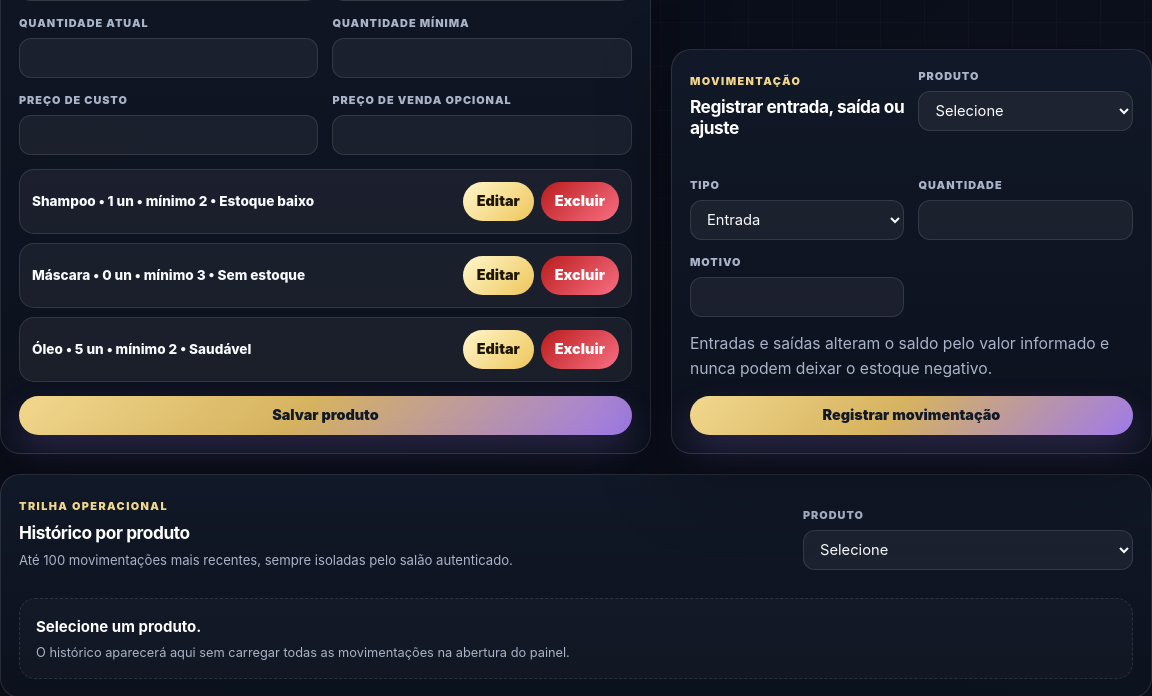
Test case: InventoryOperations › carrega histórico completo somente quando um produto é selecionado
(page scrolled)
Step 1. Select "Shampoo" in the dropdown labelled "Produto" in the row of "Histórico por produto" → (968, 550), box x1=803 y1=530 x2=1133 y2=570
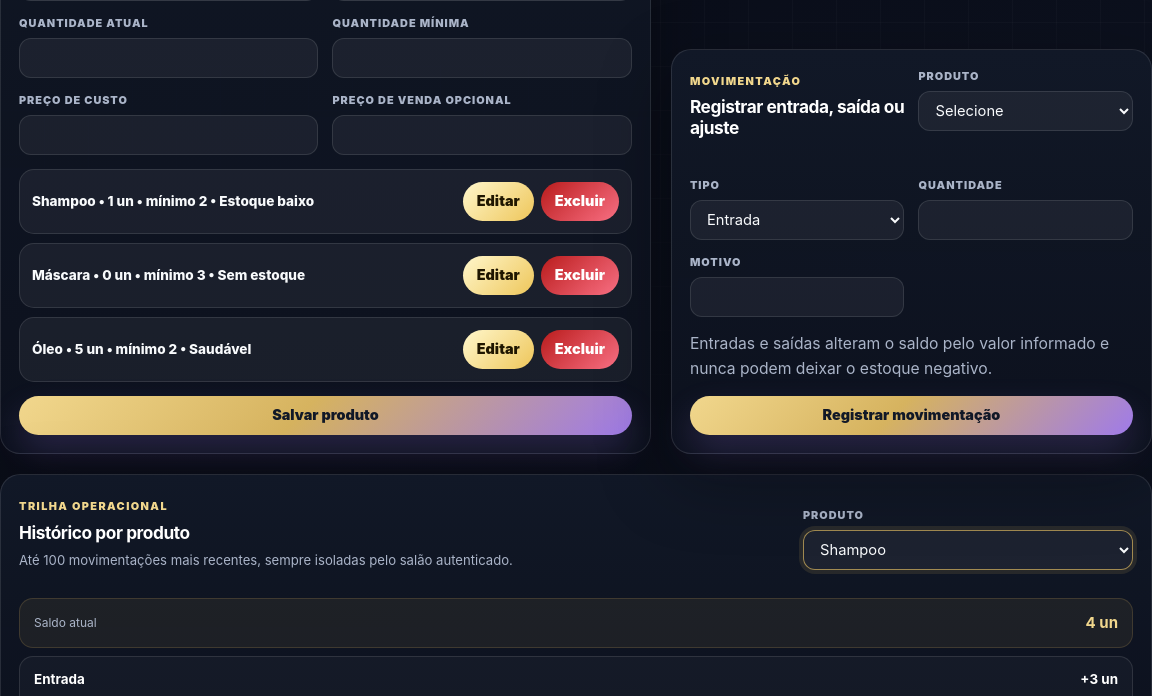
Check: the text "+3 un" is shown, box x1=1080 y1=671 x2=1118 y2=687
